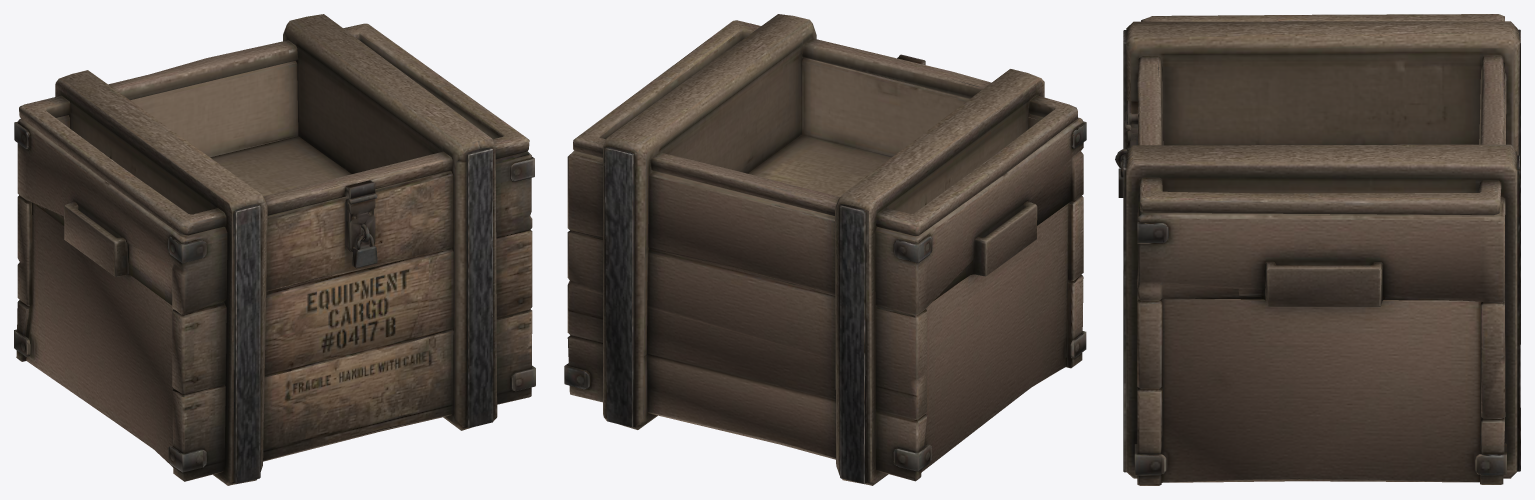
Rendered from selected.glb.
The picture shows the model from 3 angles, left to right: view 1: azimuth 30°, elevation 25°; view 2: azimuth 150°, elevation 25°; view 3: azimuth 270°, elevation 25°; orthographic projection. The views are drawn at different scales.
Parts seen in each view (by area): view 1: tripo_node_a359bce8-5985-4162-9a8f-8fec2b56e0f5; view 2: tripo_node_a359bce8-5985-4162-9a8f-8fec2b56e0f5; view 3: tripo_node_a359bce8-5985-4162-9a8f-8fec2b56e0f5.
Part boxes in pixels (x1,y1,x2,y2): tripo_node_a359bce8-5985-4162-9a8f-8fec2b56e0f5: (14, 14, 535, 485); tripo_node_a359bce8-5985-4162-9a8f-8fec2b56e0f5: (564, 14, 1086, 485); tripo_node_a359bce8-5985-4162-9a8f-8fec2b56e0f5: (1115, 14, 1520, 485).
Bounding box in the file's own units: 0.998 × 0.7324 × 0.8496.
Materials: 1 (1 with a texture image).
